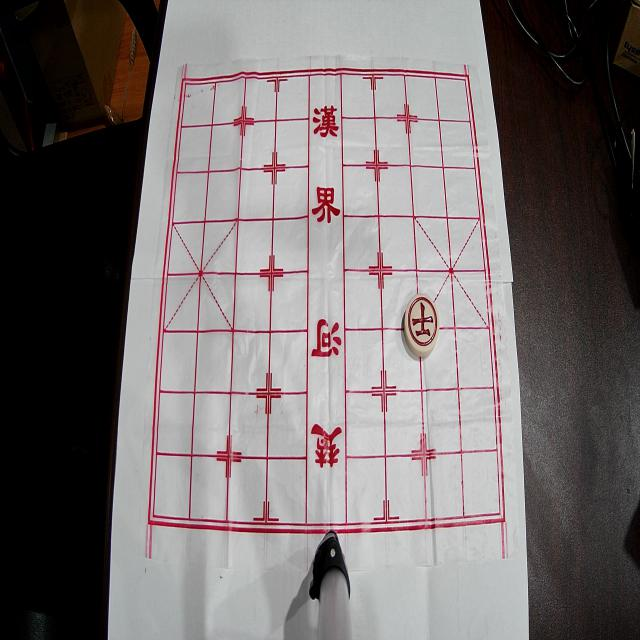red-guard: (404, 293, 439, 357)
